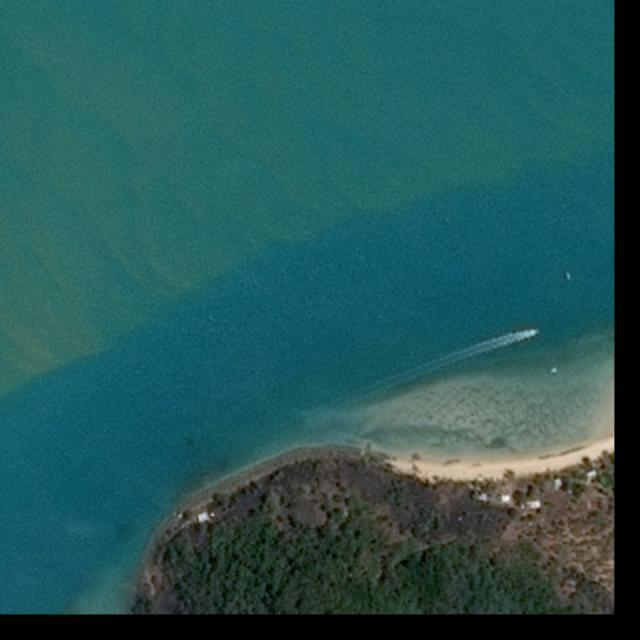ship: (528, 328, 540, 338)
